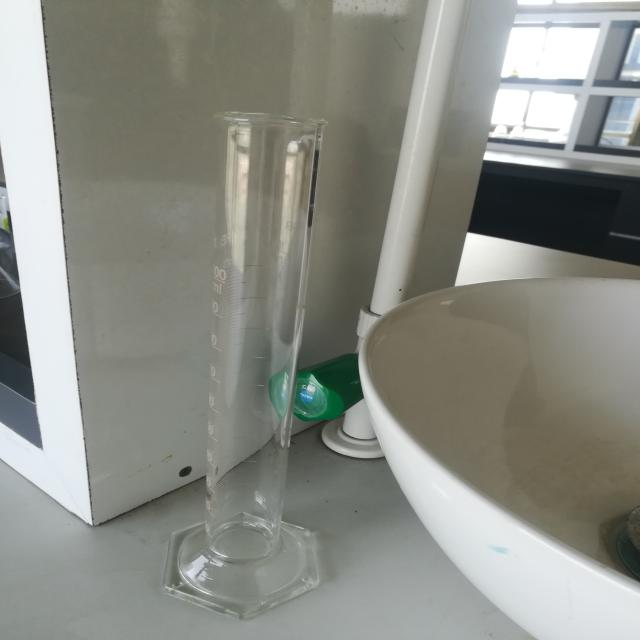Measuring_Cylinder: (138, 81, 359, 636)
